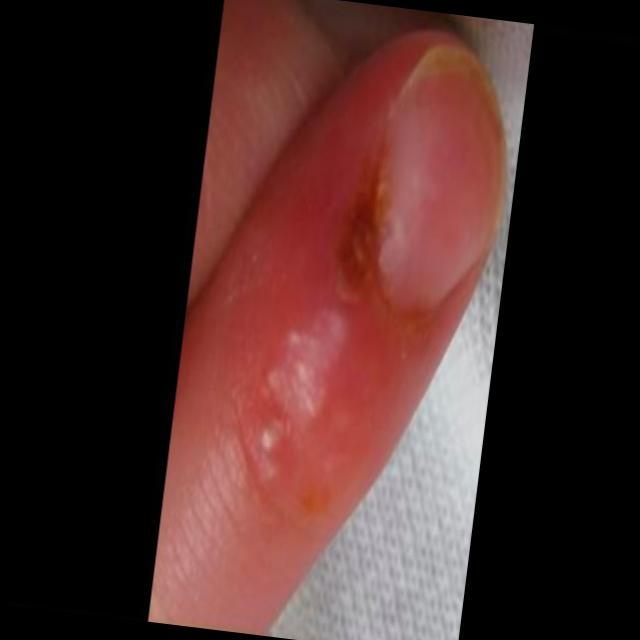Eczema: (241, 145, 440, 518)
